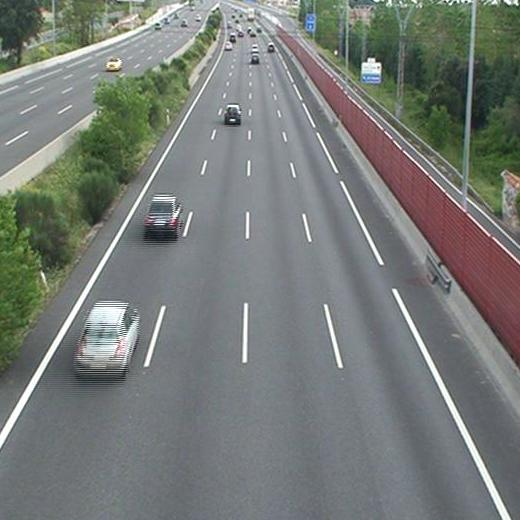car: (74, 303, 137, 369), (144, 196, 181, 232), (225, 104, 241, 123), (250, 53, 260, 63), (267, 43, 276, 53), (223, 41, 231, 51)
